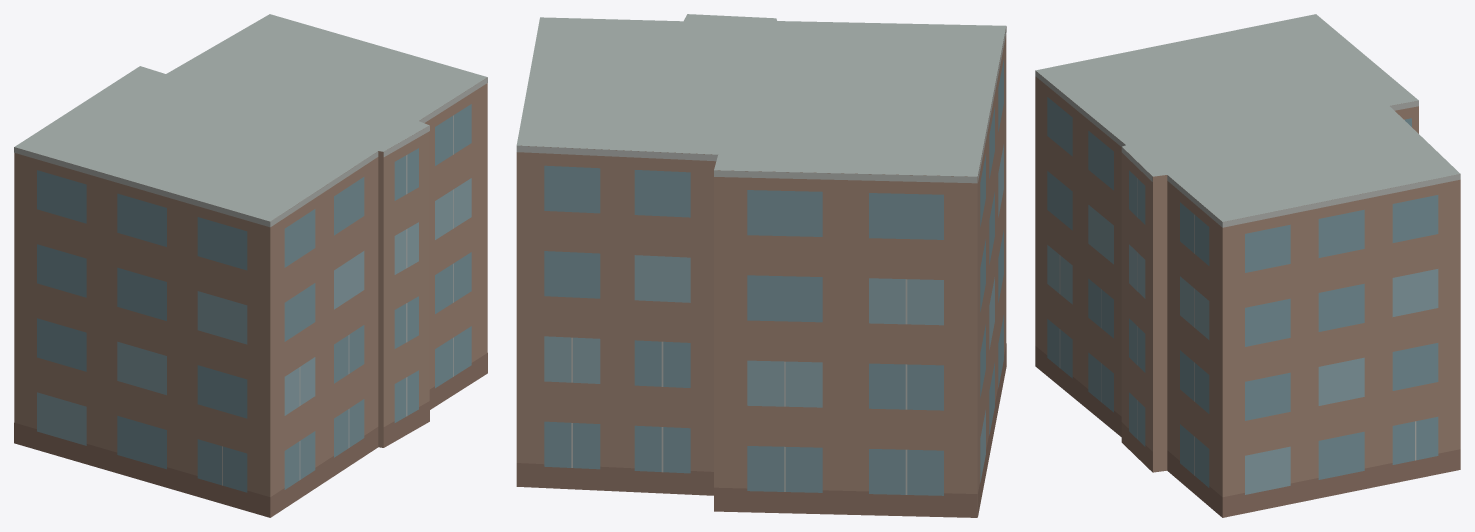
Rendered from survey-upis-32728511.glb.
3 renders of one model, left to right at view 1: azimuth 30°, elevation 25°; view 2: azimuth 150°, elevation 25°; view 3: azimuth 270°, elevation 25°, orthographic. The views are drawn at different scales.
Visible parts, largest first — view 1: survey-upis-32728511.tmp; view 2: survey-upis-32728511.tmp; view 3: survey-upis-32728511.tmp.
Boxes of the visible parts, x1,y1,x2,y2 form: survey-upis-32728511.tmp: (14,14,487,517); survey-upis-32728511.tmp: (516,14,1006,517); survey-upis-32728511.tmp: (1035,14,1460,517).
Bounding box in the file's own units: 19.01 × 12.6 × 16.42.
